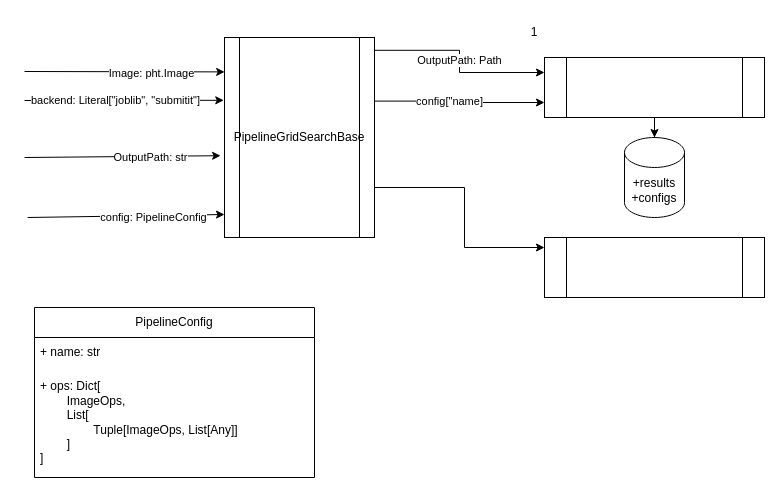
Some shapes in this 782 by 495 pixel diagram are drawn without their labels. Each missing label, with the centre of its shape:
"_make_output_directory" belongs at (654,87).
"_unpack_" belongs at (654,267).
